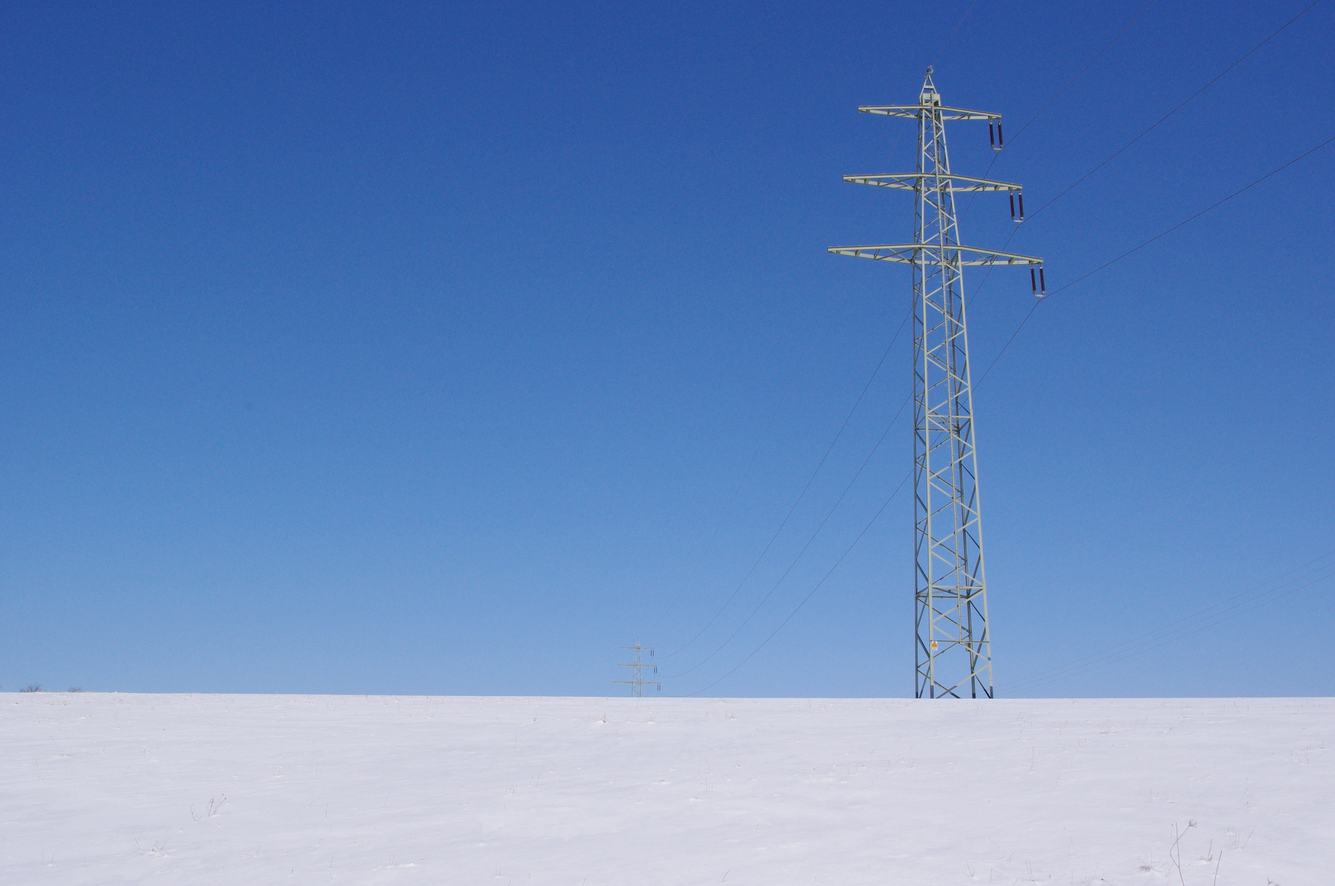insulator: (1007, 189, 1027, 227), (1028, 261, 1047, 297), (988, 118, 1005, 150)
